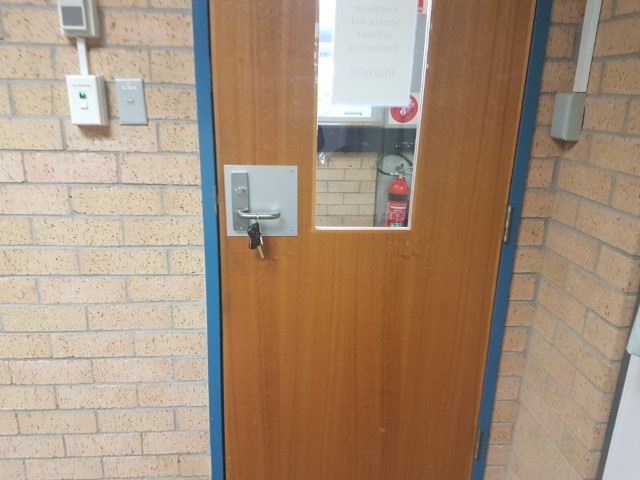key: (247, 222, 266, 259)
